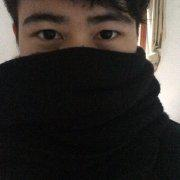OK: (9, 5, 140, 136)
